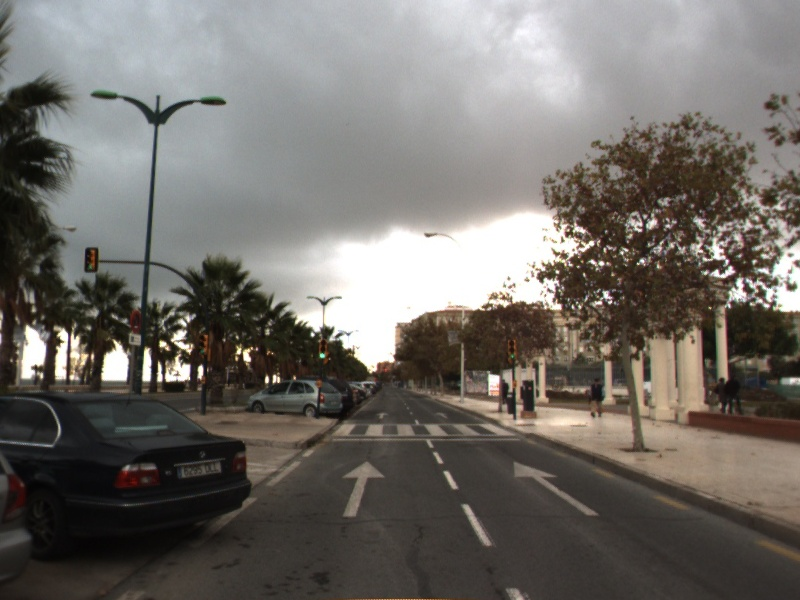STRAIGHT: (512, 460, 601, 517), (340, 459, 387, 519), (433, 410, 450, 420), (375, 411, 390, 420)
